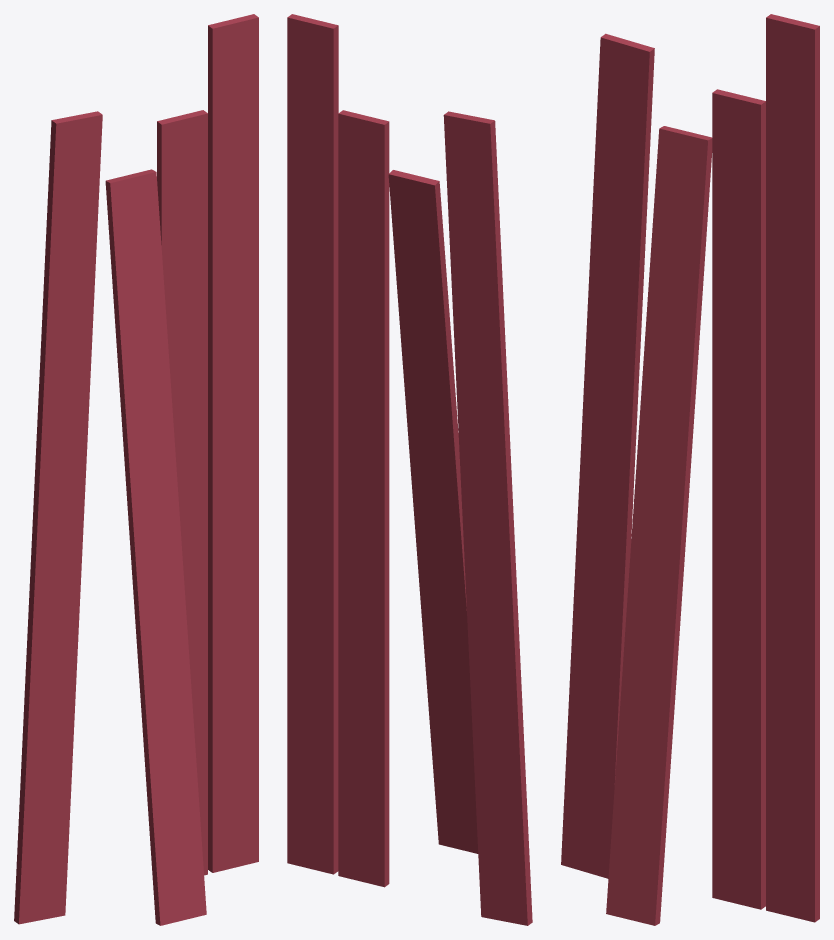
The model's file is plank_02.fbx.
3 views of the same model, side by side, from view 1: azimuth 30°, elevation 25°; view 2: azimuth 150°, elevation 25°; view 3: azimuth 330°, elevation 25° (orthographic). The views are drawn at different scales.
Visible parts, largest first — view 1: polySurface4913; view 2: polySurface4913; view 3: polySurface4913.
Boxes of the visible parts, box(x1,y1,x2,y2) form: polySurface4913: box(14, 14, 258, 925); polySurface4913: box(287, 14, 532, 925); polySurface4913: box(561, 14, 819, 925).
Size of the model in its own units: 0.5958 by 2.02 by 0.2363.
